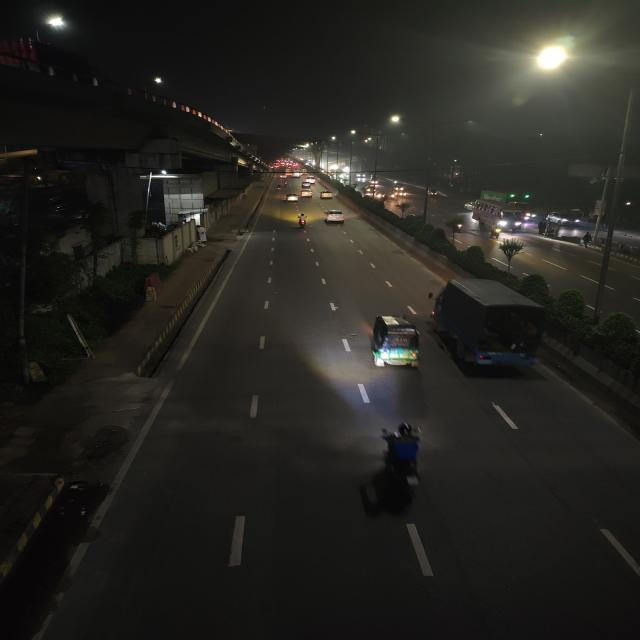bus: (473, 200, 525, 232)
car: (551, 211, 579, 229), (322, 208, 347, 226), (283, 192, 300, 203), (318, 190, 334, 200), (299, 183, 313, 194), (300, 179, 313, 189), (303, 177, 317, 186), (364, 186, 376, 196)
cng: (363, 313, 425, 373), (393, 184, 407, 194)
motorcycle: (370, 416, 438, 494), (488, 222, 503, 241), (294, 211, 309, 229), (275, 184, 283, 192)
pedestrian: (578, 231, 595, 249)
pickup_van: (439, 276, 556, 378)
